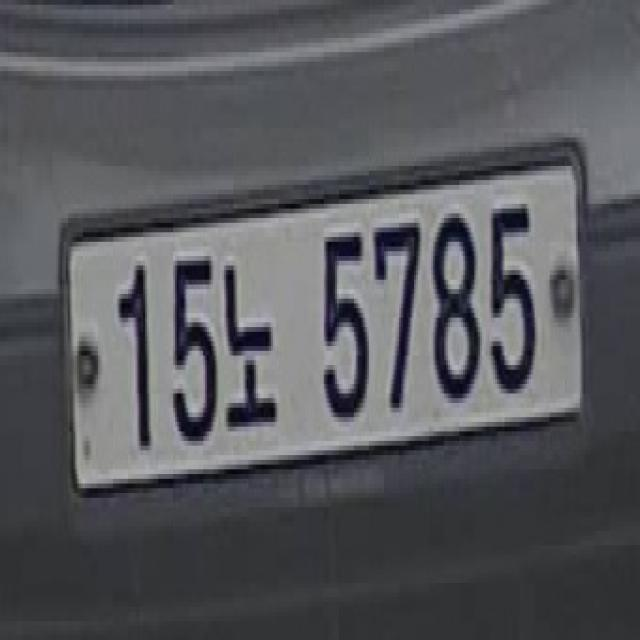1: (111, 232, 160, 474)
5: (484, 175, 548, 412), (166, 232, 218, 470), (318, 208, 371, 441)
7: (371, 194, 425, 441)
8: (429, 180, 484, 432)
license_plate: (54, 109, 596, 555)
no: (220, 222, 284, 464)
